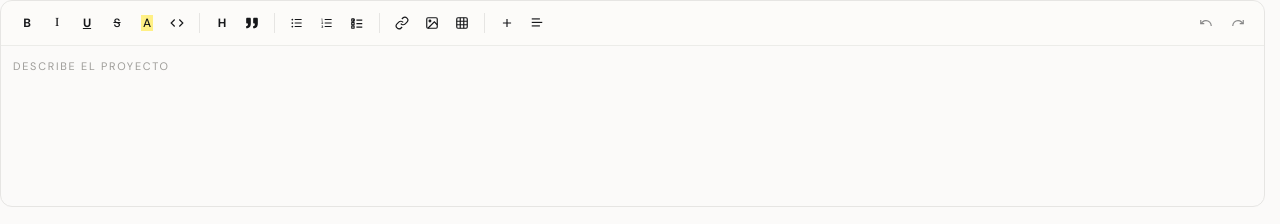
Test: RichTextEditorImpl › opens the insertion menu
Press the mouse on the button titled "Insertar" at [507, 23], box [493, 9, 521, 37]
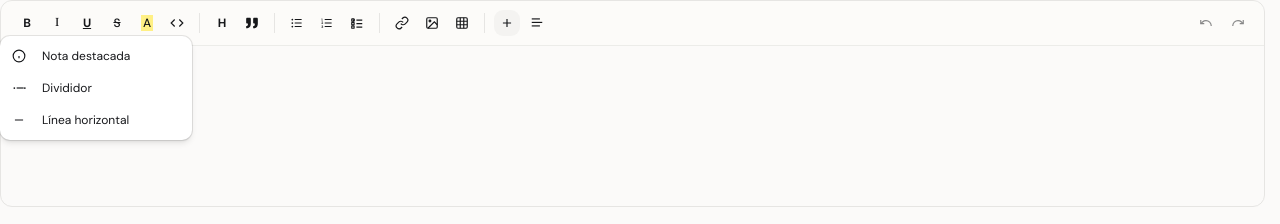
Check: the menu item "Nota destacada" is shown, box [12, 48, 130, 64]
Check: the menu item "Divididor" is shown, box [12, 80, 92, 96]
Check: the menu item "Línea horizontal" is shown, box [12, 112, 129, 128]
